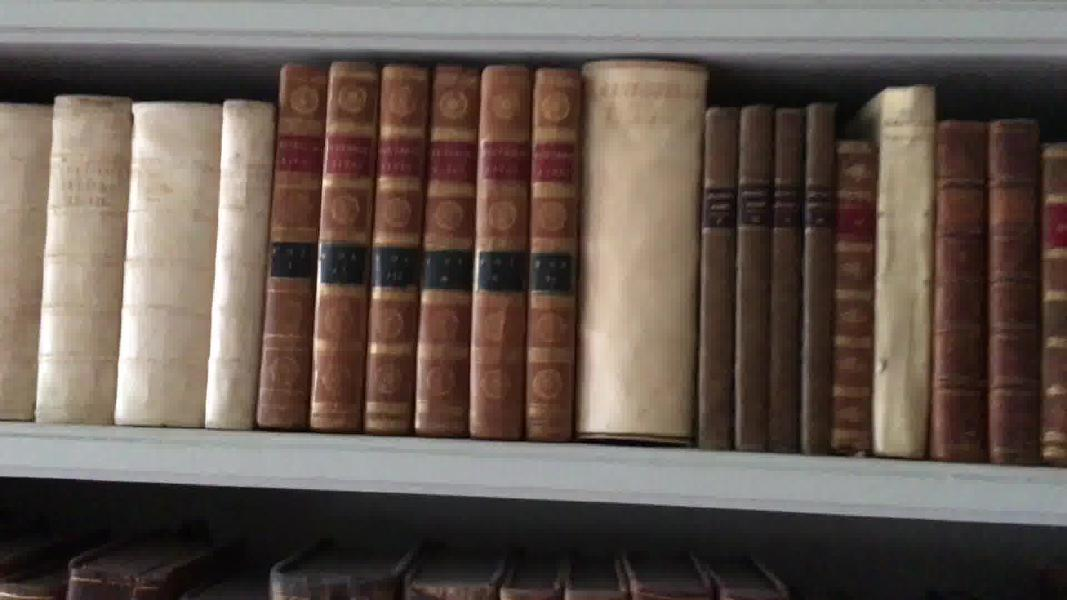Kk4-14: (588, 50, 685, 453)
Kk4-15_16: (698, 100, 769, 469)
Kk4-17_18: (769, 88, 835, 459)
Kk4-19: (829, 134, 869, 466)
Kk4-20: (879, 75, 938, 469)
Kk4-21_22: (944, 113, 1044, 500)
Kk4-3_7: (1, 81, 260, 438)
Kk4-8_13: (269, 59, 582, 444)
